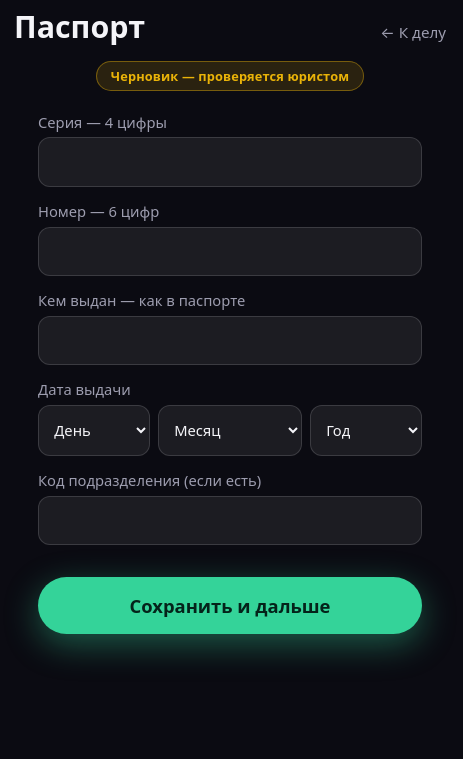
Scenario: SectionPage › keeps the user on the step and shows issues on the exact field after a save with problems
Type "45" into the field labelled "Серия — 4 цифры". click: (230, 162)
box: [38,137,422,187]
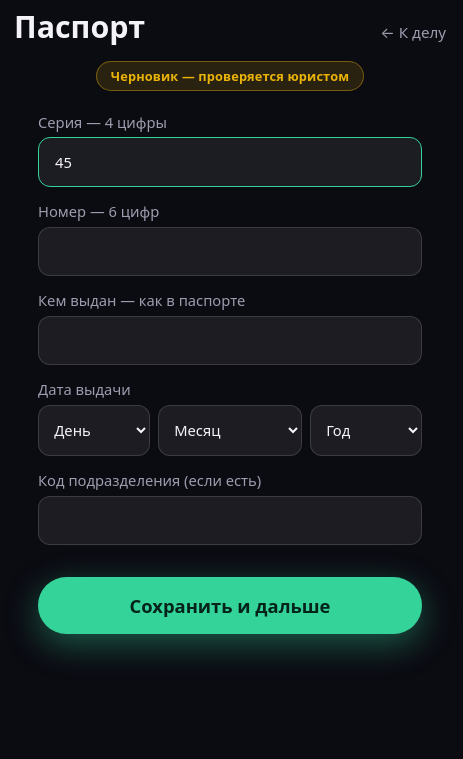
Click the button "Сохранить и дальше". click: click(230, 606)
box: [38,577,422,634]
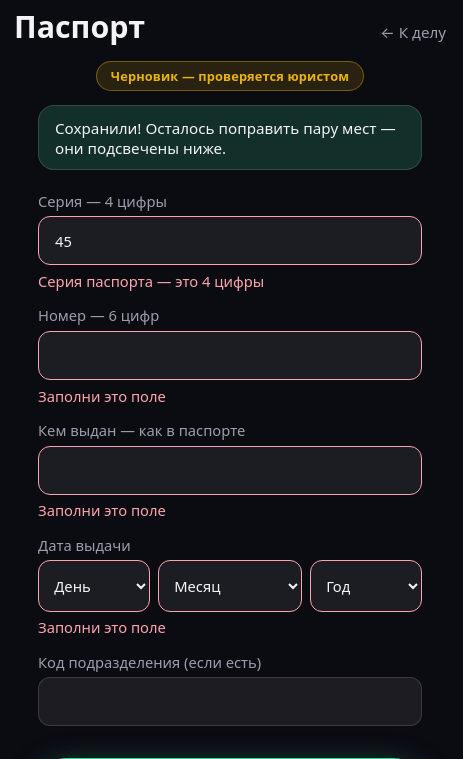
Result: the text "Серия паспорта — это 4 цифры" is shown at [38,271,264,291]
